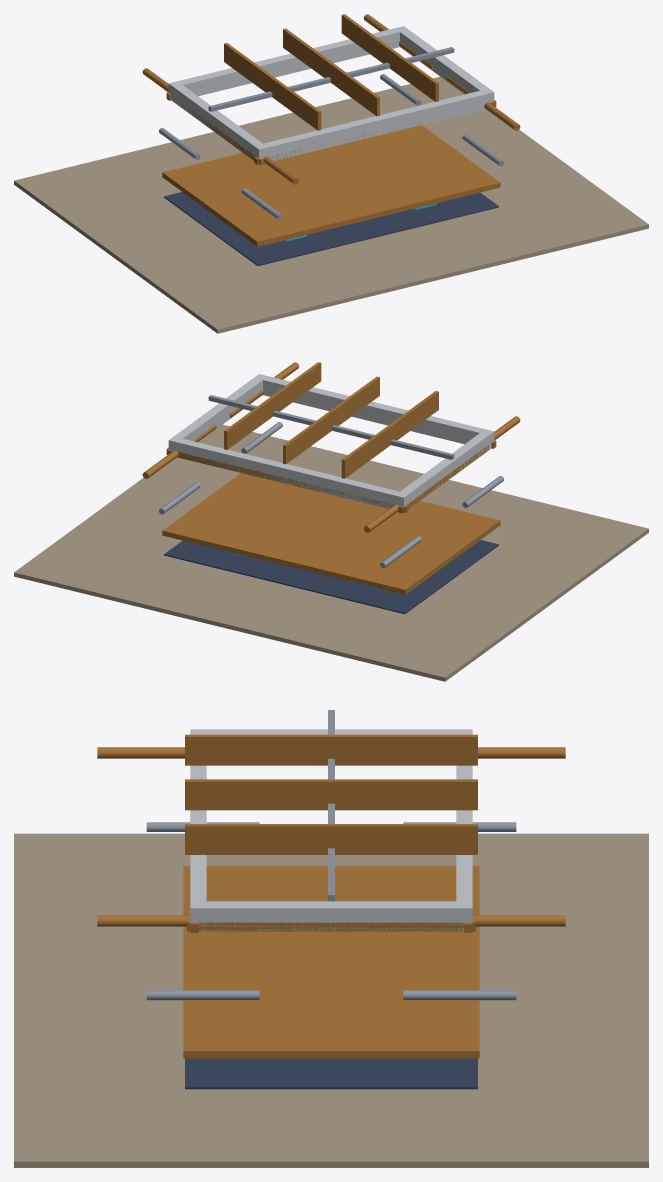
Rendered from stage_09_roof_structure.glb.
The picture shows the model from 3 angles, top to bottom: view 1: azimuth 30°, elevation 25°; view 2: azimuth 150°, elevation 25°; view 3: azimuth 270°, elevation 25°; orthographic projection. The views are drawn at different scales.
Parts seen in each view (by area): view 1: world; view 2: world; view 3: world.
Boxes of the visible parts, x1,y1,x2,y2 form: world: [14, 14, 648, 333]; world: [14, 362, 648, 681]; world: [14, 710, 648, 1167].
Bounding box in the file's own units: 11 × 3.5 × 9.
